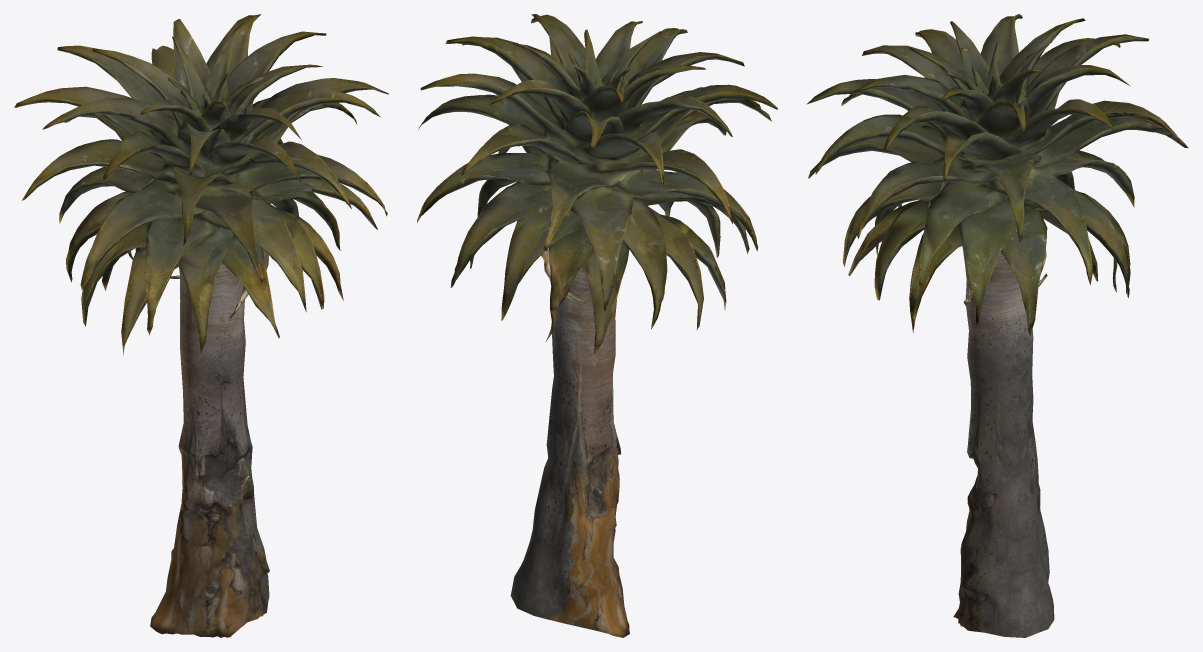
Rendered from quiver_tree_02.glb.
The picture shows the model from 3 angles, left to right: view 1: azimuth 30°, elevation 25°; view 2: azimuth 150°, elevation 25°; view 3: azimuth 270°, elevation 25°; orthographic projection.
Visible parts, largest first — view 1: quiver_tree_02; view 2: quiver_tree_02; view 3: quiver_tree_02.
Part boxes in pixels (x1,y1,x2,y2): quiver_tree_02: [14, 14, 388, 637]; quiver_tree_02: [417, 14, 777, 637]; quiver_tree_02: [807, 14, 1188, 637].
Bounding box in the file's own units: 0.8671 × 1.47 × 0.878.
Materials: 1 (1 with a texture image).
